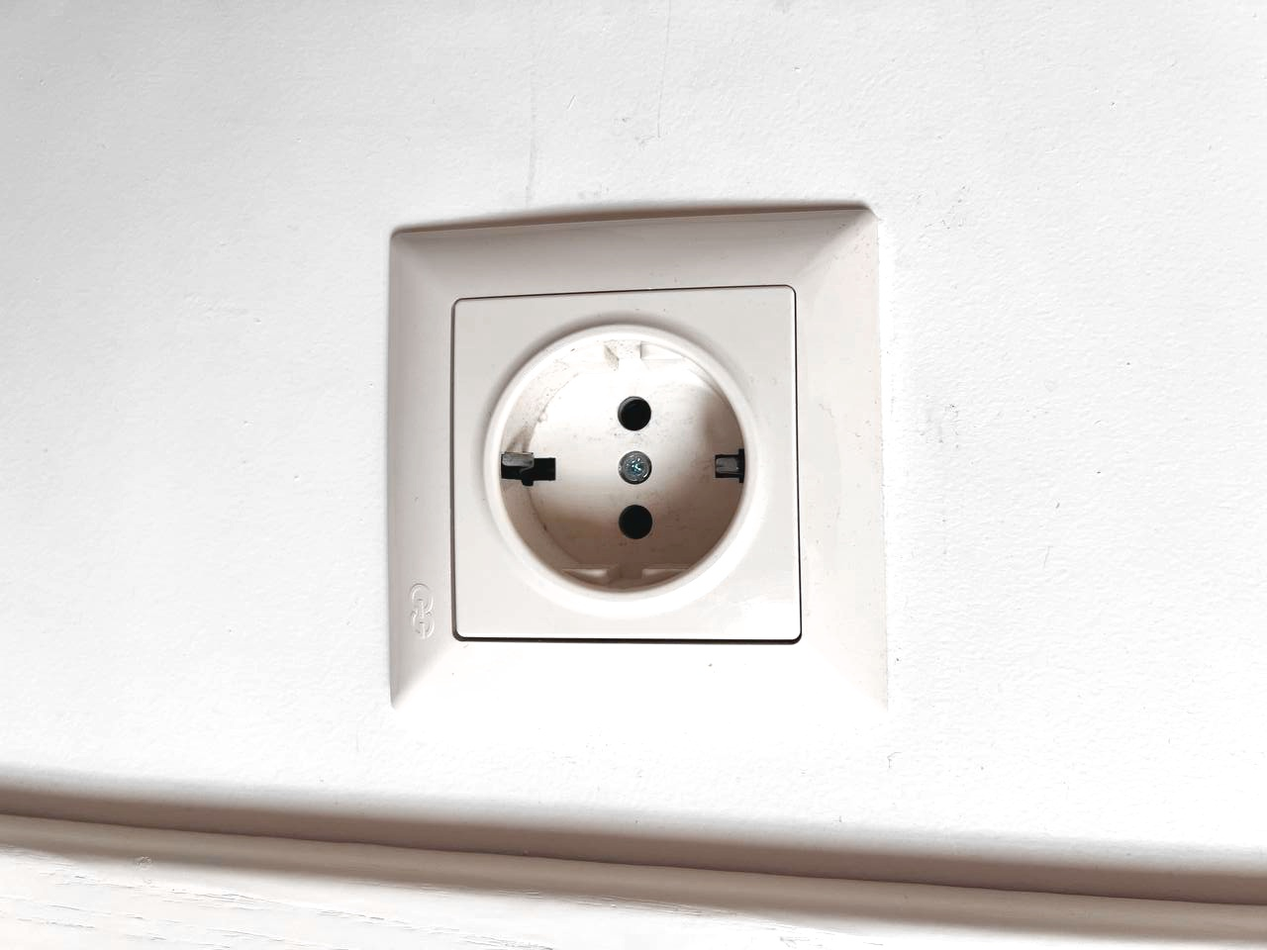Power Outlet: (475, 319, 777, 608)
